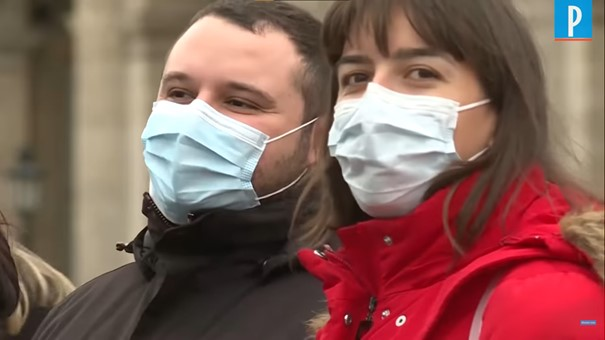with_mask: (145, 49, 311, 220), (334, 41, 495, 212)
